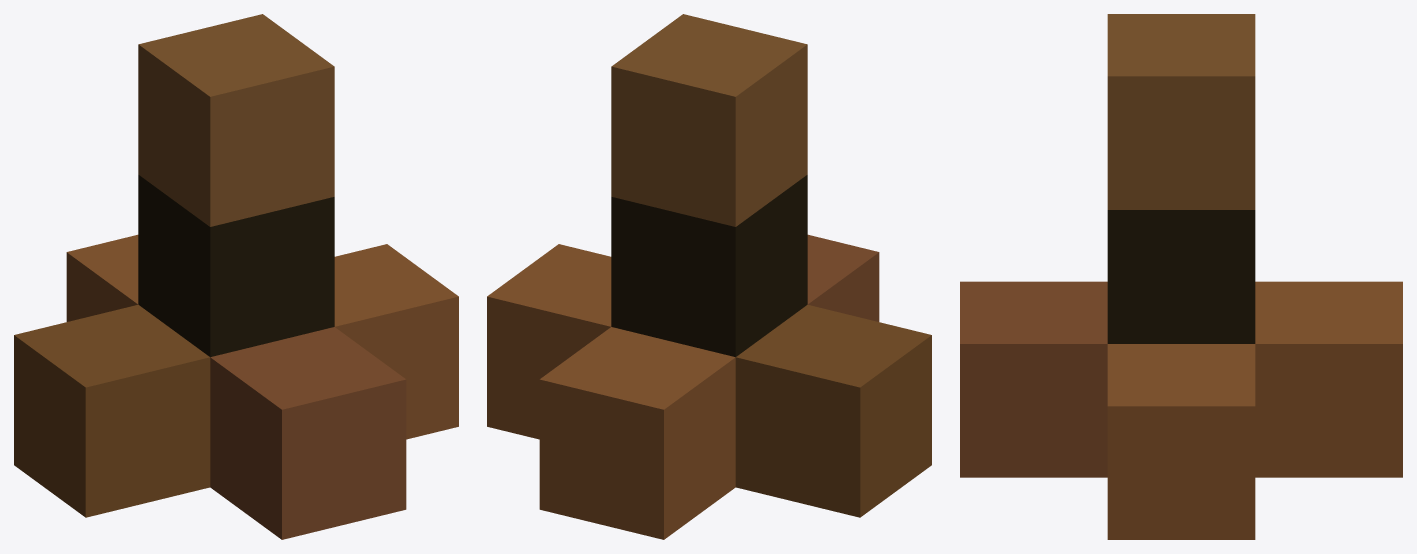
File: tavern_jug.glb
3 views of the same model, side by side, from view 1: azimuth 30°, elevation 25°; view 2: azimuth 150°, elevation 25°; view 3: azimuth 270°, elevation 25° (orthographic). The views are drawn at different scales.
Parts seen in each view (by area): view 1: tavern_jug; view 2: tavern_jug; view 3: tavern_jug.
Part boxes in pixels (left/top/right/bottom): tavern_jug: left=14, top=14, right=458, bottom=539; tavern_jug: left=487, top=14, right=931, bottom=539; tavern_jug: left=960, top=14, right=1402, bottom=539.
Size of the model in its own units: 0.75 by 0.75 by 0.75.
Materials: 1 (1 with a texture image).
